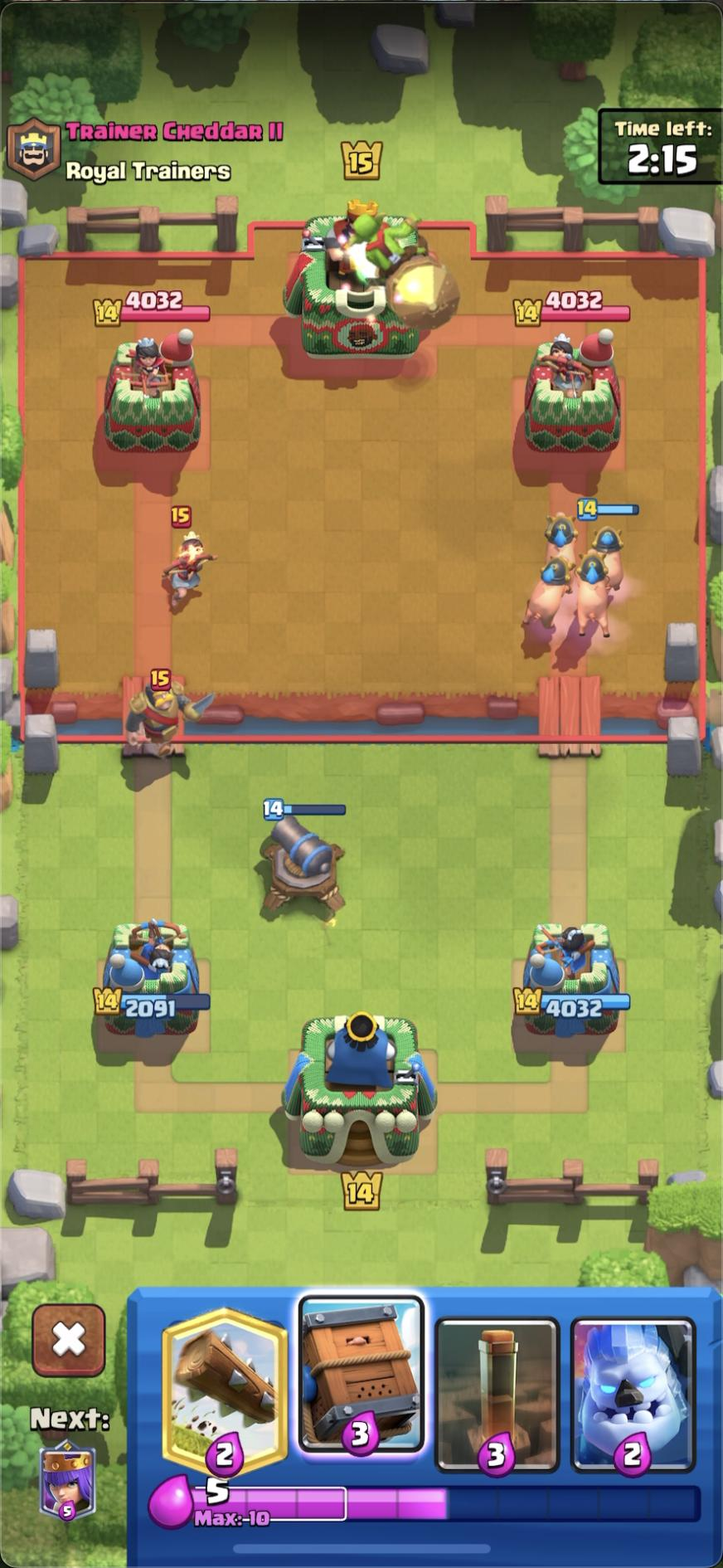card_archerqueen: (31, 1435, 104, 1528)
card_earthquake: (434, 1311, 565, 1478)
card_icegolem: (567, 1311, 698, 1479)
card_log: (156, 1297, 291, 1483)
card_royaldelivery: (298, 1287, 428, 1456)
